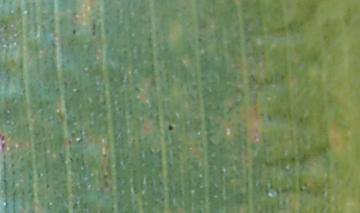tarspot: (166, 123, 176, 133), (90, 21, 96, 37), (266, 110, 273, 122), (1, 135, 7, 148), (71, 26, 77, 35)
